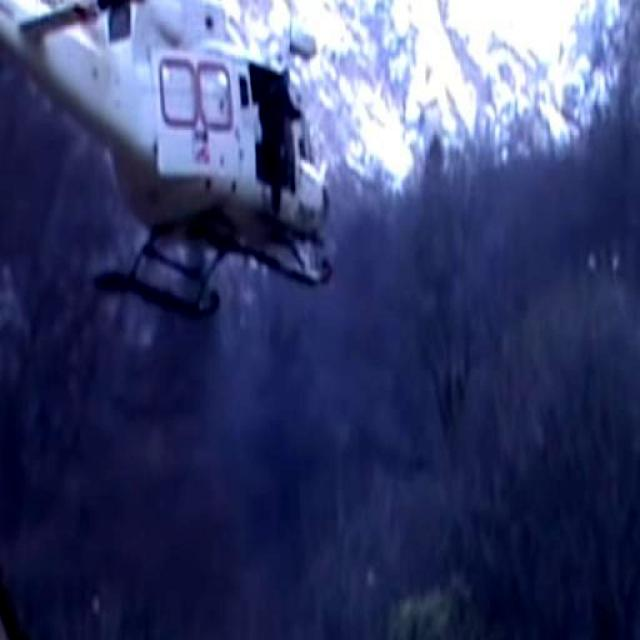drone: (0, 0, 348, 322)
